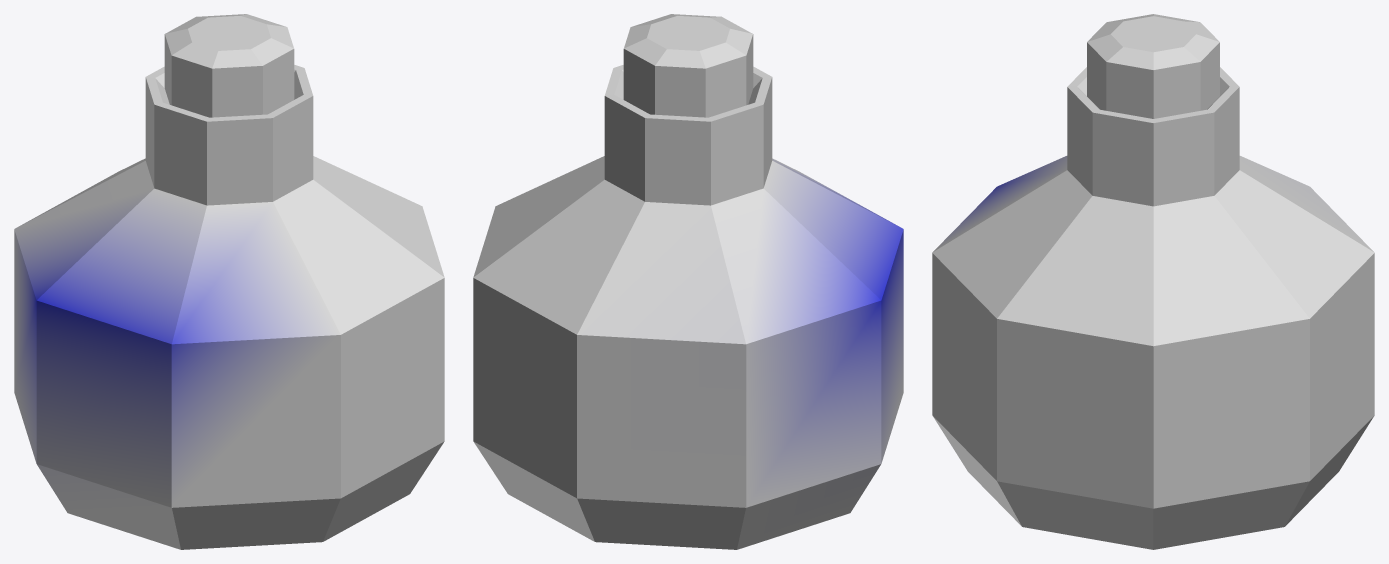
The model's file is 01Botellas.fbx.
The picture shows the model from 3 angles, left to right: view 1: azimuth 30°, elevation 25°; view 2: azimuth 150°, elevation 25°; view 3: azimuth 270°, elevation 25°; orthographic projection.
Visible parts, largest first — view 1: 01Botella; view 2: 01Botella; view 3: 01Botella.
Part boxes in pixels (x1,y1,x2,y2): 01Botella: (14,14,444,549); 01Botella: (473,14,903,549); 01Botella: (932,14,1374,549).
Size of what is drawn, in the model's own units: 255 by 278 by 255.
